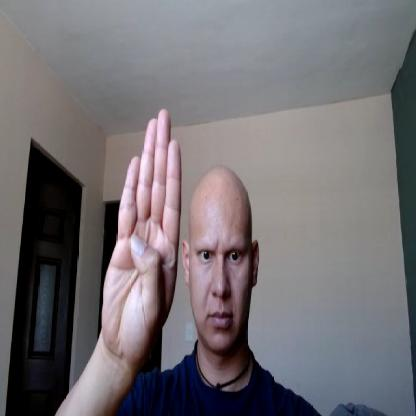B: (100, 106, 182, 358)
